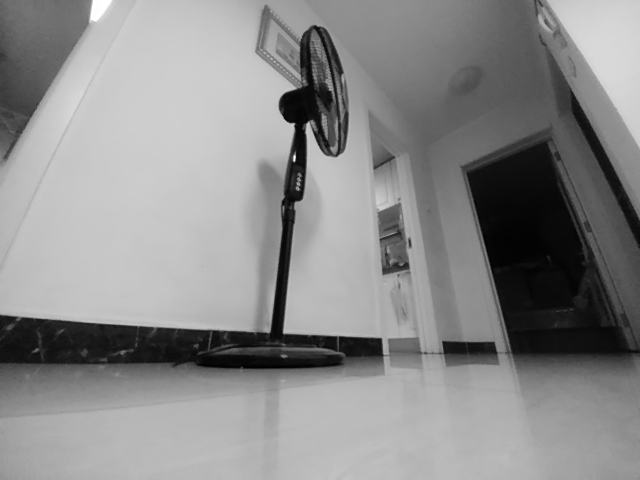bar stool: (196, 334, 345, 370)
